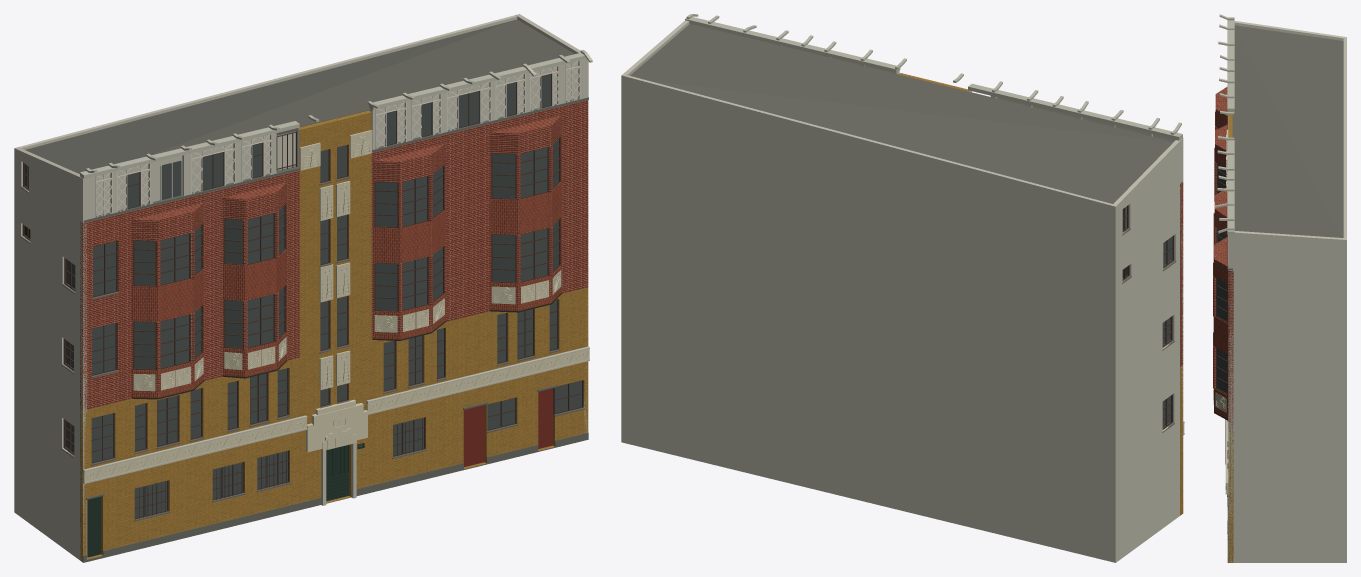
Rendered from xuhui-wanping-42-brick-window-bays-lod.glb.
3 renders of one model, left to right at view 1: azimuth 30°, elevation 25°; view 2: azimuth 150°, elevation 25°; view 3: azimuth 270°, elevation 25°, orthographic. The views are drawn at different scales.
Visible parts, largest first — view 1: 宛平路42号住宅双色砖墙与卷叶凸窗; view 2: 宛平路42号住宅双色砖墙与卷叶凸窗; view 3: 宛平路42号住宅双色砖墙与卷叶凸窗.
Part boxes in pixels (x1,y1,x2,y2): 宛平路42号住宅双色砖墙与卷叶凸窗: (14, 14, 592, 562); 宛平路42号住宅双色砖墙与卷叶凸窗: (621, 14, 1184, 562); 宛平路42号住宅双色砖墙与卷叶凸窗: (1213, 14, 1346, 562).
Bounding box in the file's own units: 21.62 × 16.09 × 5.75.
Materials: 13 (3 with a texture image).
